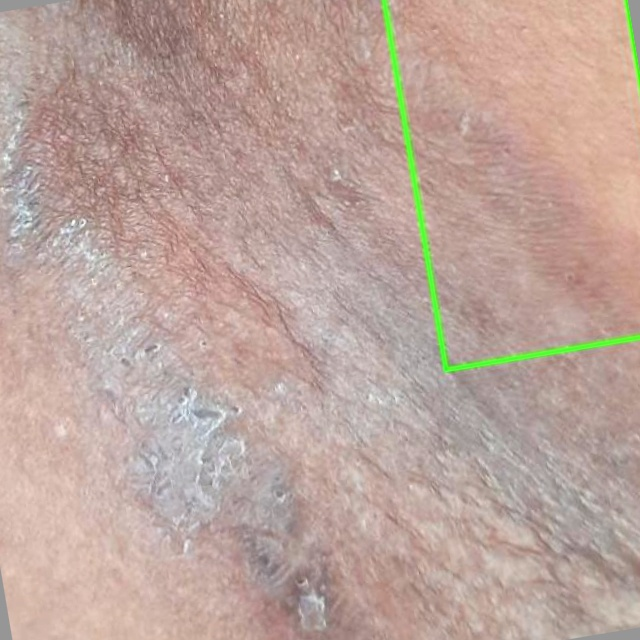Contact Dermatitis: (382, 0, 639, 371)
